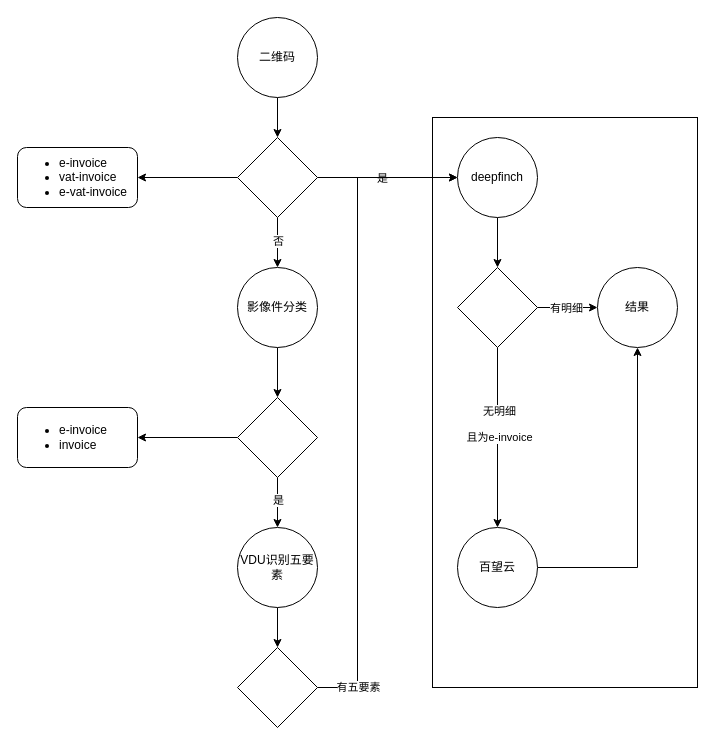
Some shapes in this 715 by 745 pixel diagram are drawn without their labels. The shapes that lost their labels are listed below. From the top down, each one's box as (x1, y1, x2, y2) in pixels, then its label:
(236, 136, 318, 218): 五要素/三要素VAT
(456, 266, 538, 348): 有无明细
(236, 396, 318, 478): 是否电子发票
(236, 646, 318, 728): 是否有五要素
